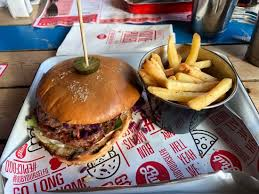hamburger: (31, 55, 145, 157)
